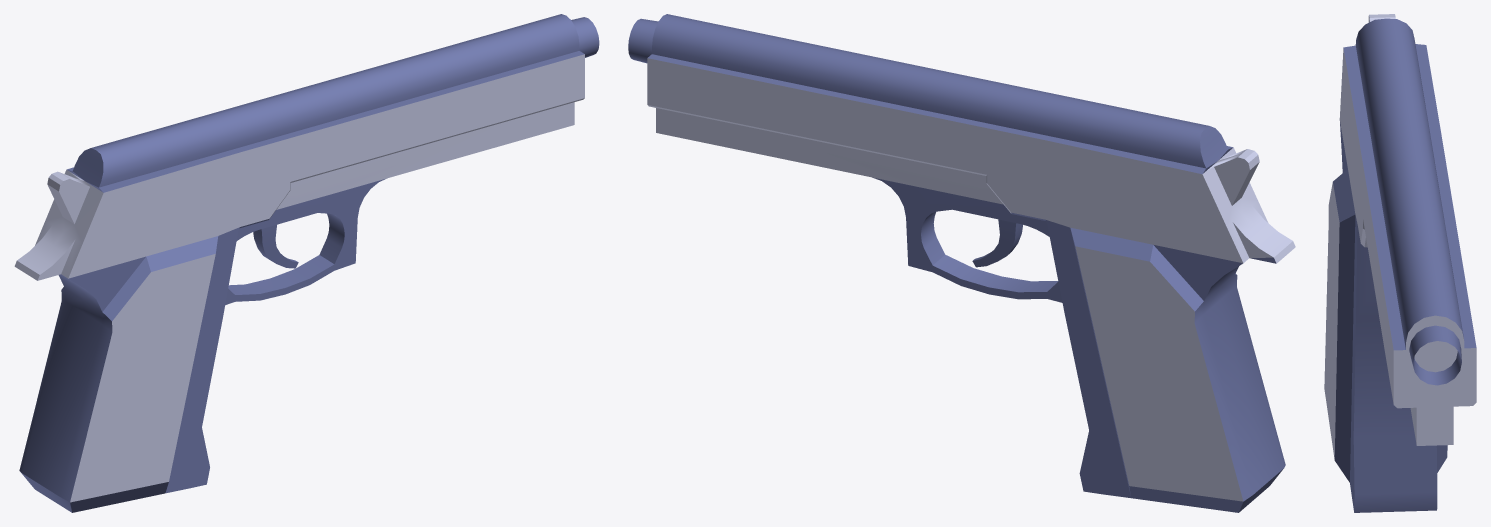
File: MSR.fbx
3 renders of one model, left to right at view 1: azimuth 30°, elevation 25°; view 2: azimuth 150°, elevation 25°; view 3: azimuth 270°, elevation 25°, orthographic. The views are drawn at different scales.
Parts seen in each view (by area): view 1: MSR; view 2: MSR; view 3: MSR.
Part boxes in pixels (bbox=[...]): MSR: bbox=[14, 14, 599, 512]; MSR: bbox=[628, 14, 1295, 512]; MSR: bbox=[1324, 14, 1476, 512].
Bounding box in the file's own units: 24.99 × 14.19 × 4.49.
